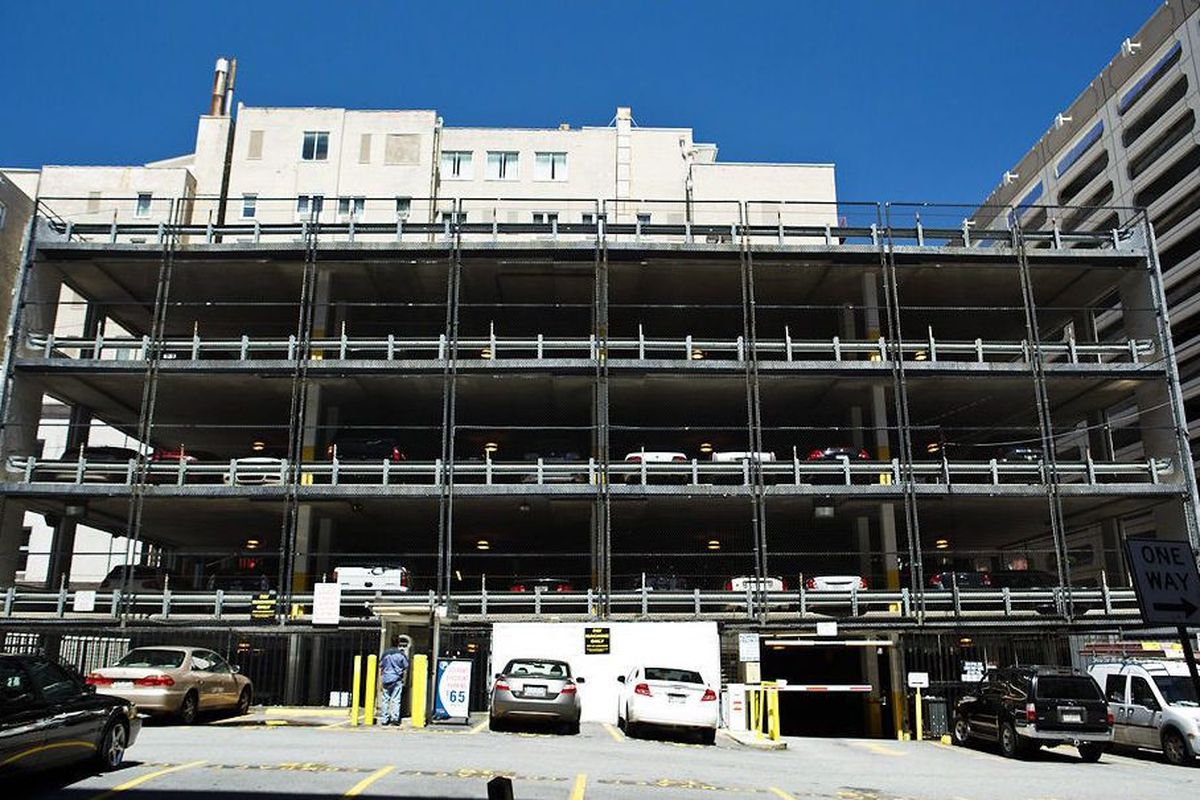empyt_space: (346, 758, 604, 800), (117, 758, 394, 796), (570, 764, 781, 800), (226, 700, 356, 734)
